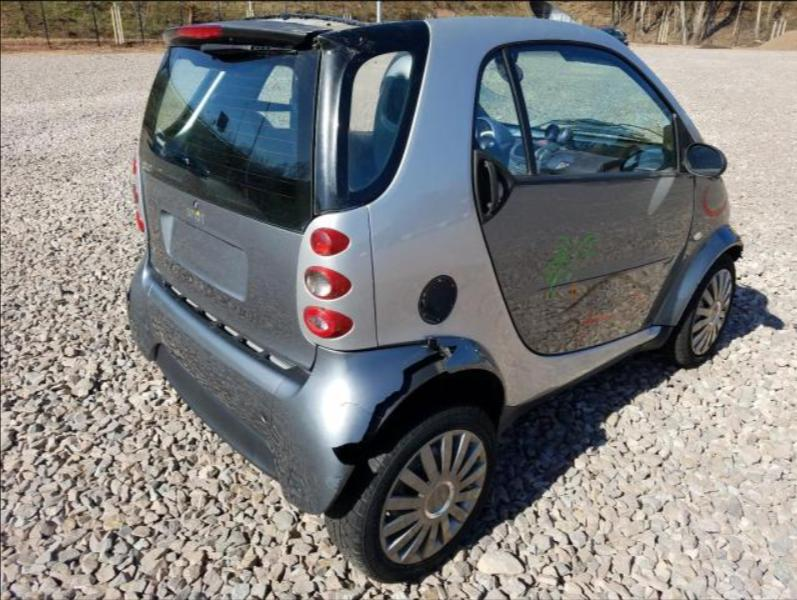Broken part: (129, 236, 501, 514), (161, 15, 382, 46)
